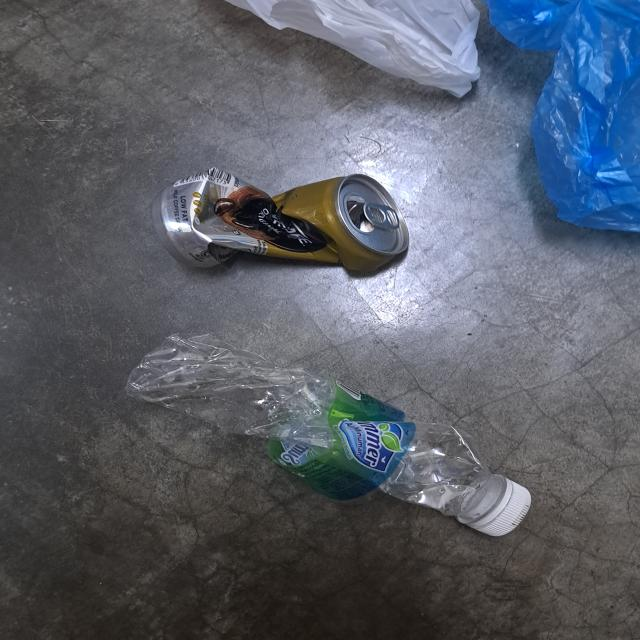can: (158, 164, 415, 292)
plastic bag: (478, 0, 640, 232), (225, 0, 480, 103)
plastic bottle: (126, 328, 489, 534)
plastic bottle cap: (474, 471, 534, 539)
pop tab: (357, 194, 401, 231)
